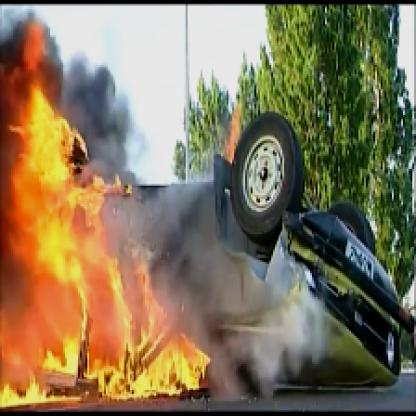Fire: (2, 43, 212, 412)
